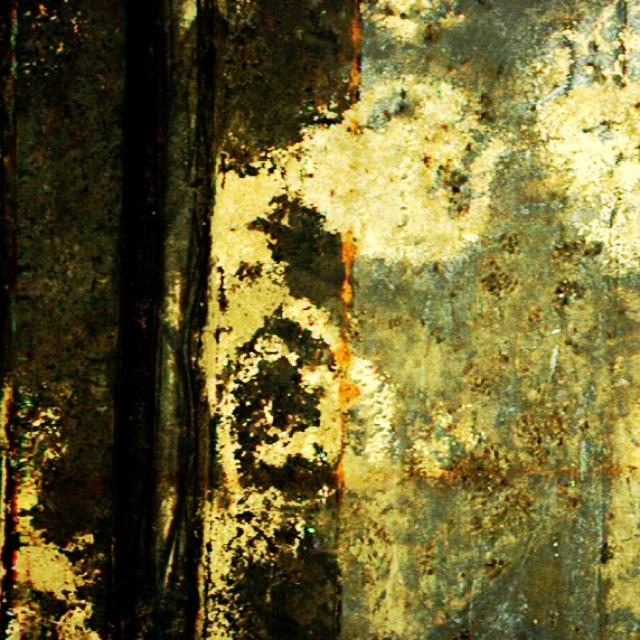Corrosion: (348, 19, 363, 134), (343, 226, 356, 304), (336, 377, 361, 412), (338, 419, 346, 483), (335, 340, 350, 366)
